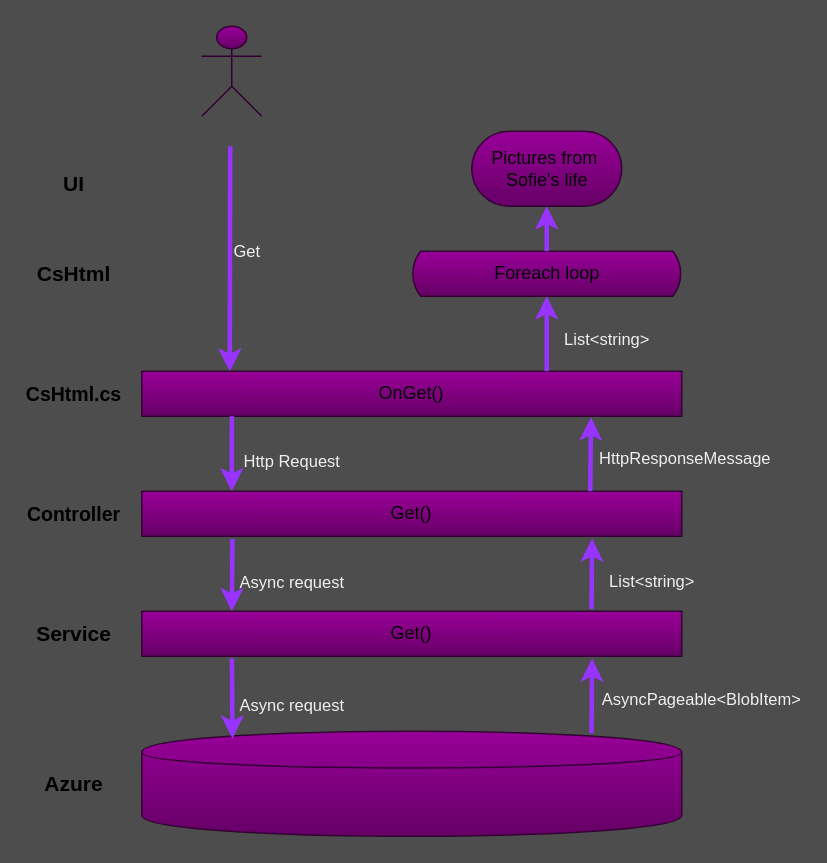
Image size: 827x863. Some labels were removed from this diagram. The shapes that lost their labels are listed below. From the top down, each one's box as (x1, y1, x2, y2) in pixels, then its label:
(200, 25, 262, 116): Sofie
(140, 730, 682, 836): Blob Container
